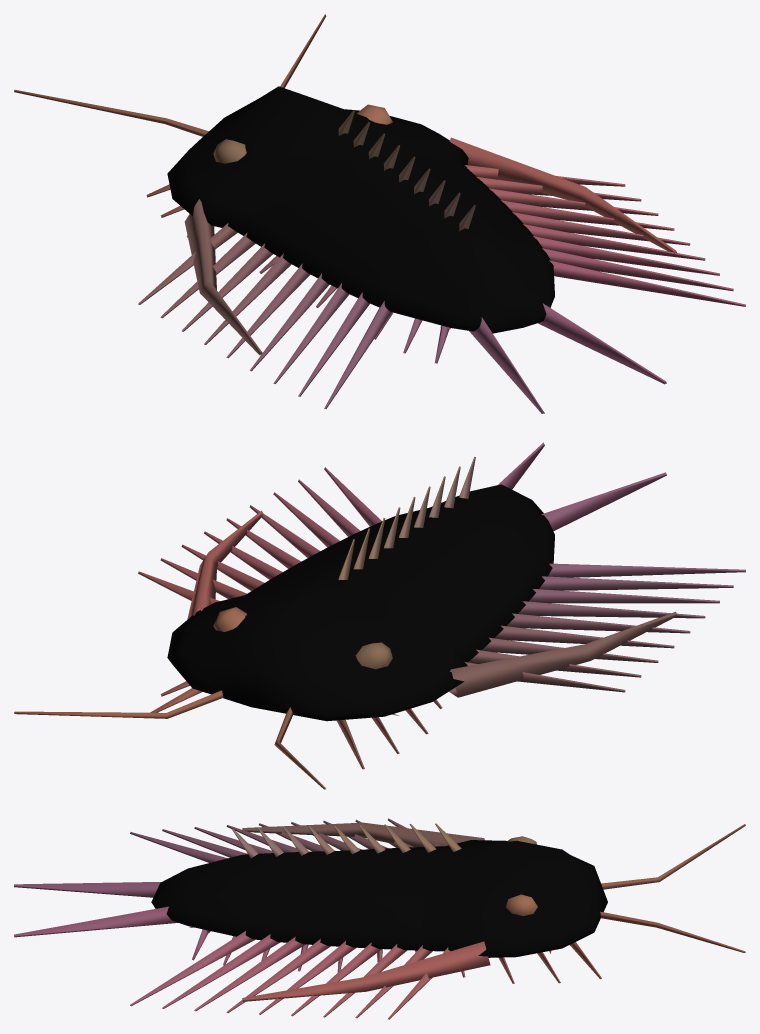
File: trilobite_spiny_lo.glb
The picture shows the model from 3 angles, top to bottom: view 1: azimuth 30°, elevation 25°; view 2: azimuth 150°, elevation 25°; view 3: azimuth 270°, elevation 25°; orthographic projection. The views are drawn at different scales.
Parts seen in each view (by area): view 1: trilobite_spiny_lo; view 2: trilobite_spiny_lo; view 3: trilobite_spiny_lo.
Boxes of the visible parts, left/top/right/bottom form: trilobite_spiny_lo: left=14, top=14, right=745, bottom=413; trilobite_spiny_lo: left=14, top=442, right=745, bottom=789; trilobite_spiny_lo: left=14, top=818, right=745, bottom=1019.
Bounding box in the file's own units: 0.2071 × 0.0538 × 0.3205.
